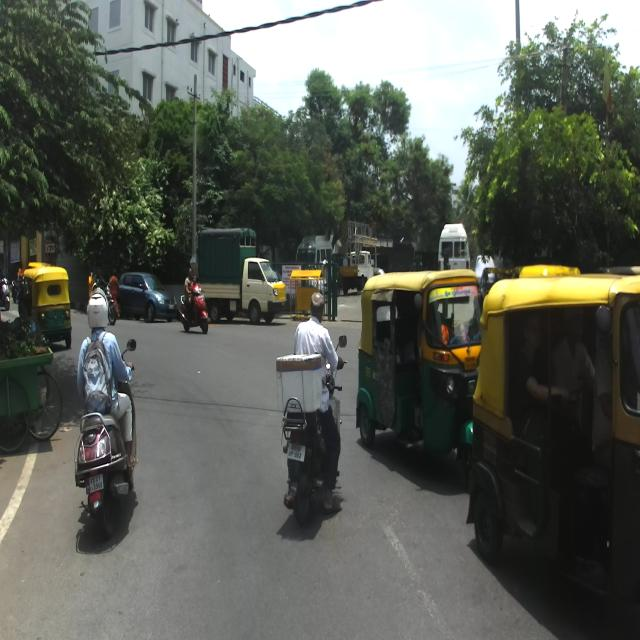auto ahead at: (478, 283, 640, 622), (359, 273, 474, 456), (34, 265, 74, 348)
motorcycle ahead at: (276, 394, 344, 530), (76, 405, 144, 531), (178, 268, 211, 338)
